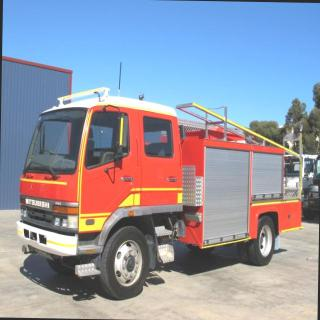Fire_truck: (14, 63, 307, 303)
